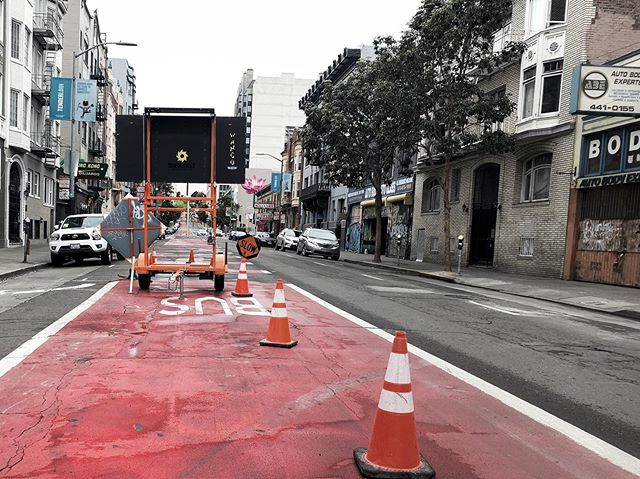building: (419, 1, 588, 262), (1, 1, 66, 238), (252, 117, 363, 244), (242, 76, 313, 227), (62, 10, 114, 192), (104, 59, 149, 175)
car: (55, 209, 121, 263), (301, 226, 341, 259), (272, 222, 302, 250), (248, 226, 275, 246)
sign: (234, 230, 259, 260)
street: (1, 253, 633, 473)
traffic cone: (351, 322, 438, 479), (254, 274, 306, 350), (231, 251, 259, 294)
tree: (383, 1, 534, 278), (293, 68, 408, 260)
